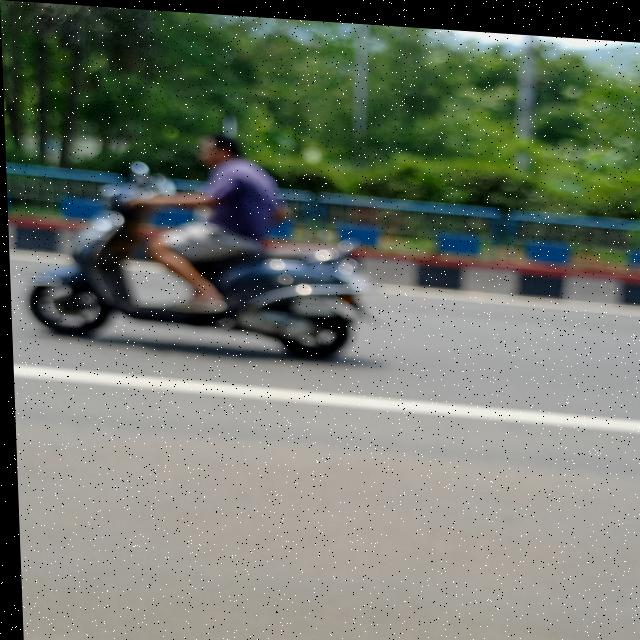bike: (16, 156, 366, 353)
